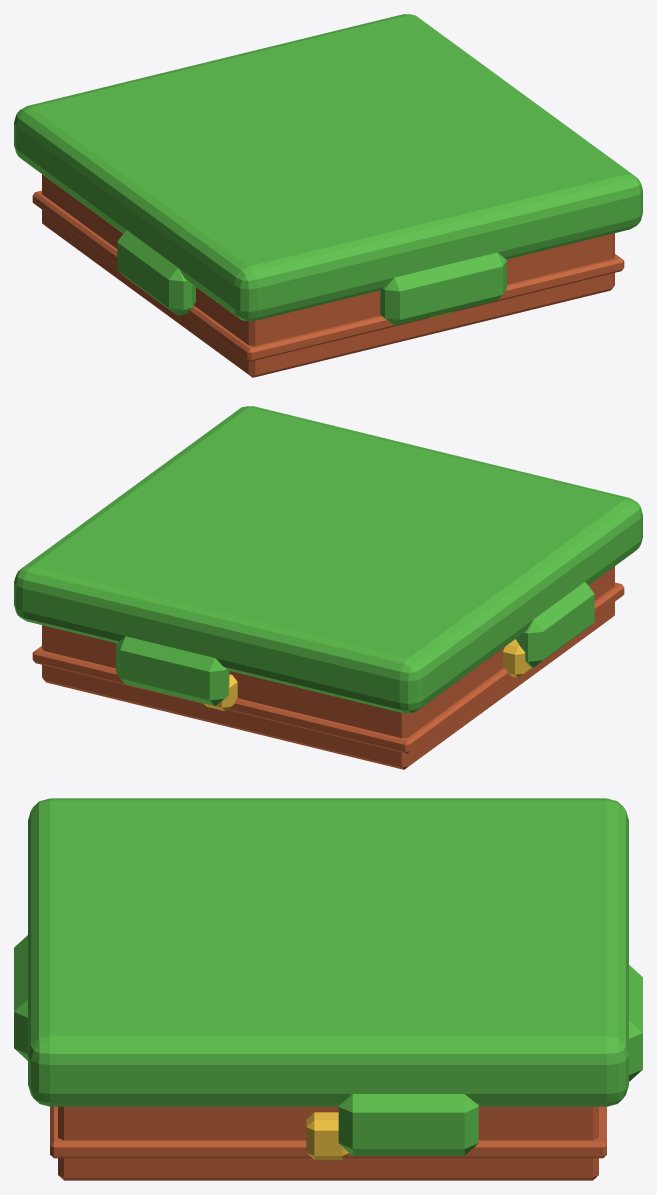
The model's file is floating_platform.obj.
3 views of the same model, one above another, from view 1: azimuth 30°, elevation 25°; view 2: azimuth 150°, elevation 25°; view 3: azimuth 270°, elevation 25° (orthographic). The views are drawn at different scales.
Parts seen in each view (by area): view 1: floating_platform; view 2: floating_platform; view 3: floating_platform.
Boxes of the visible parts, bbox=[...] form: floating_platform: bbox=[14, 14, 642, 377]; floating_platform: bbox=[14, 406, 642, 769]; floating_platform: bbox=[14, 798, 642, 1180].
Size of the model in its own units: 3.14 by 1 by 3.14.
